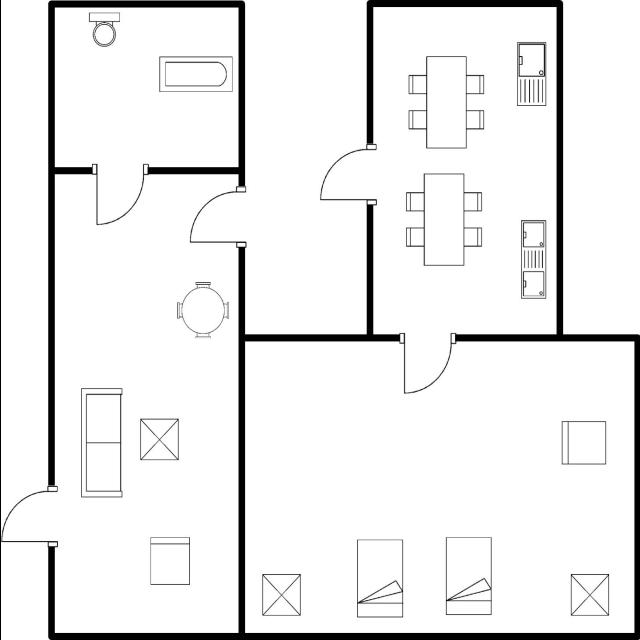bed: (438, 531, 498, 621), (350, 534, 408, 622)
coffee_table: (133, 412, 183, 465), (256, 566, 304, 620), (564, 569, 614, 620)
dining_table: (400, 168, 486, 270), (403, 51, 487, 151)
large_sofa: (74, 382, 124, 502), (82, 7, 126, 51)
round_table: (170, 275, 233, 345)
sink: (510, 37, 550, 114)
small_sofa: (142, 532, 196, 592), (556, 417, 610, 467)
tub: (153, 50, 236, 99)
twin_sink: (515, 216, 551, 302)
